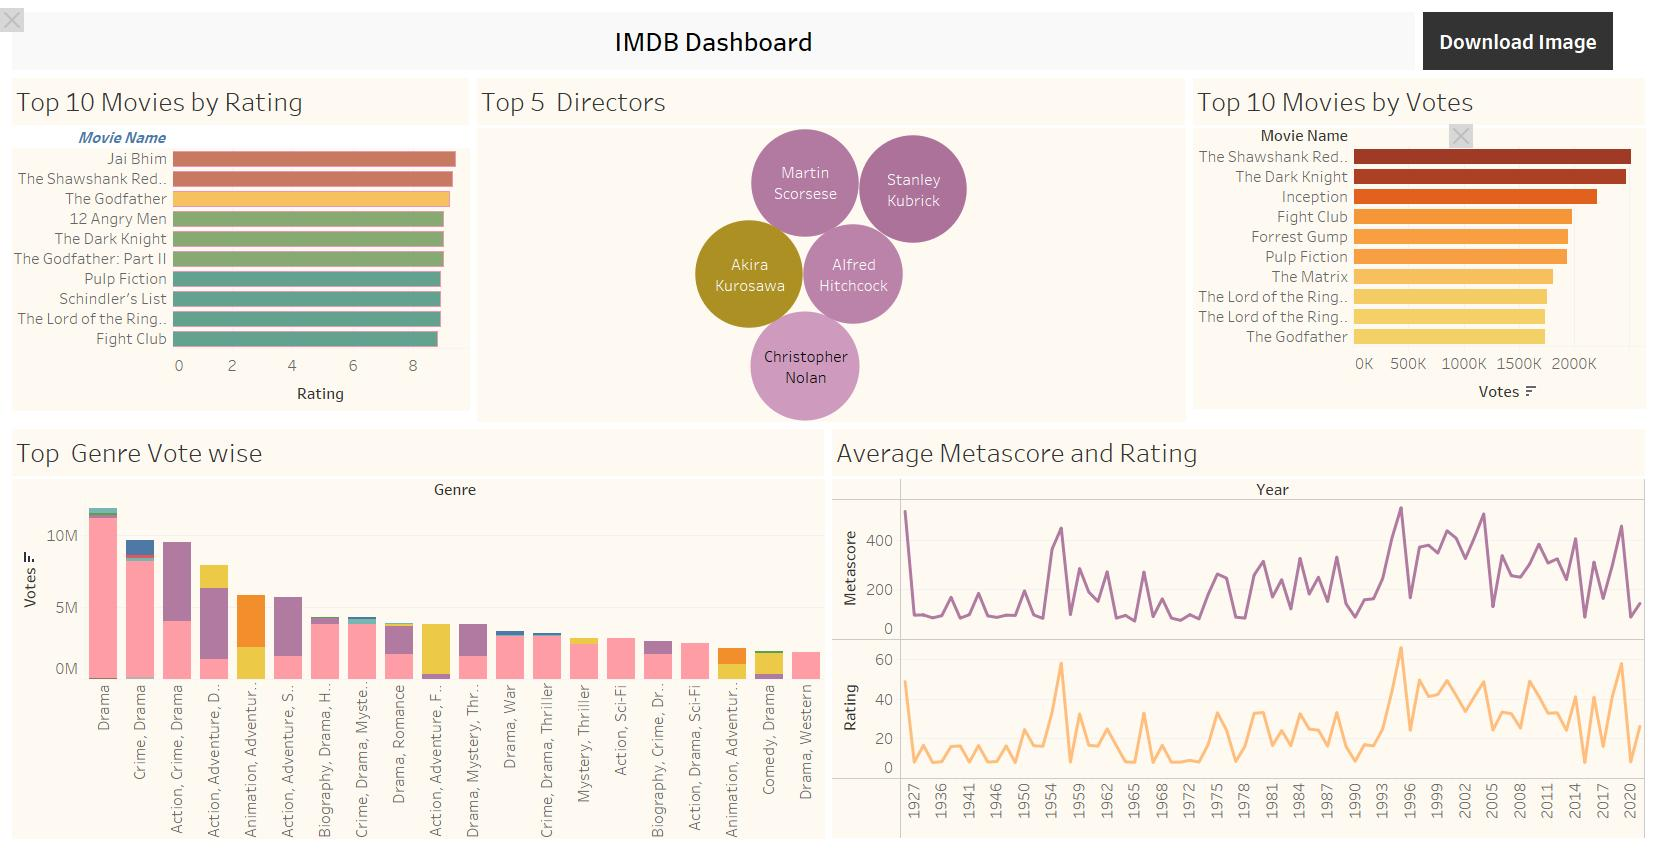

Layout of this report page (visuals, bound fields, positions):
{"tool":"tableau","page":{"name":"IMDB Dashboard","canvas":[1000,1000],"units":"permille","ordinal":0},"visuals":[{"type":"dashboard-object","box":[0,9.4,14.5,28.2]},{"type":"text","box":[4.8,9.4,851.5,77.6]},{"type":"dashboard-object","box":[856.4,9.4,119.5,77.6]},{"type":"blank","box":[975.9,9.4,19.3,77.6]},{"type":"worksheet","title":"Top 10 Movies by Rating","mark":"Automatic","rows":["movie name "],"cols":["RATING"],"box":[4.8,87,280.6,412.4]},{"type":"worksheet","title":"Top 5  Directors ","mark":"Circle","box":[285.5,87,432.2,412.4]},{"type":"worksheet","title":"Top 10 Movies by Votes ","mark":"Automatic","rows":["movie name "],"cols":["votes"],"box":[717.7,87,277.5,412.4]},{"type":"dashboard-object","box":[874.5,145.7,14.5,28.2]},{"type":"worksheet","title":"Top  Genre Vote wise ","mark":"Automatic","rows":["votes"],"cols":["genre"],"box":[4.8,499.4,495.1,491.2]},{"type":"worksheet","title":"Average Metascore and Rating ","mark":"Line","rows":["metascore","RATING"],"cols":["Year"],"box":[500,499.4,495.2,491.2]}]}

Visuals, with their boxes on the dashboard's canvas, which has no fixed pixel size, in thousandths of its width and height (x1, y1, x2, y2). These are canvas units, not pixel positions in the 1657x851 screenshot, which may show the page scaled, cropped or inside an application window:
dashboard-object: x1=0 y1=9 x2=14 y2=38
text: x1=5 y1=9 x2=856 y2=87
dashboard-object: x1=856 y1=9 x2=976 y2=87
blank: x1=976 y1=9 x2=995 y2=87
"Top 10 Movies by Rating" worksheet: x1=5 y1=87 x2=285 y2=499
"Top 5  Directors " worksheet (Circle marks): x1=286 y1=87 x2=718 y2=499
"Top 10 Movies by Votes " worksheet: x1=718 y1=87 x2=995 y2=499
dashboard-object: x1=874 y1=146 x2=889 y2=174
"Top  Genre Vote wise " worksheet: x1=5 y1=499 x2=500 y2=991
"Average Metascore and Rating " worksheet (Line marks): x1=500 y1=499 x2=995 y2=991
